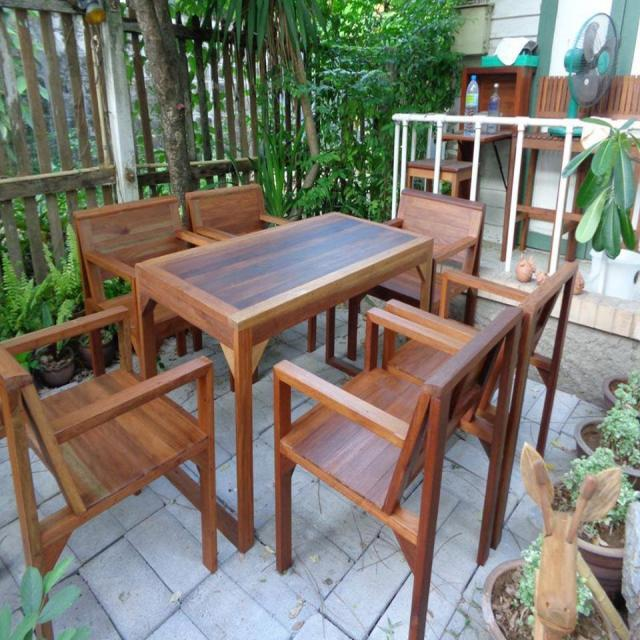table: (130, 205, 454, 346), (392, 85, 608, 176)
